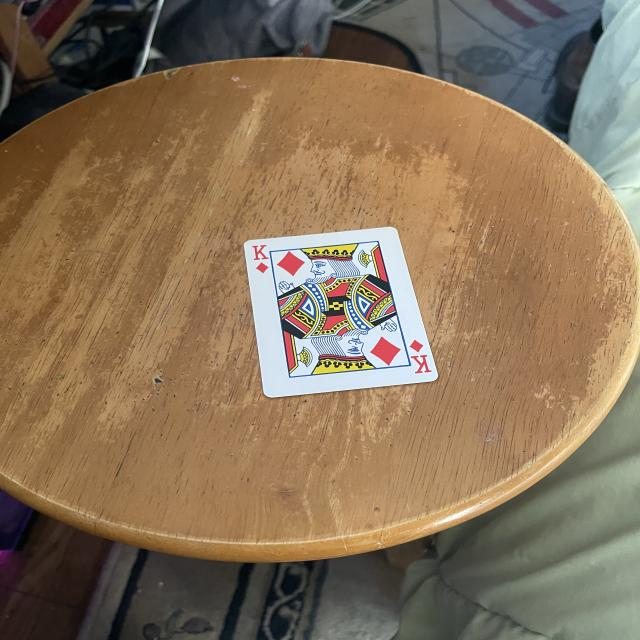King of diamonds: (240, 225, 439, 401)
